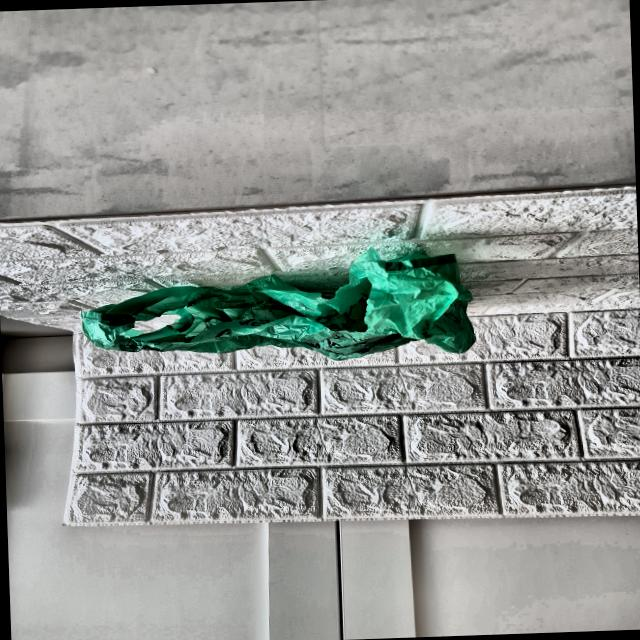plastic bag: (80, 248, 487, 372)
